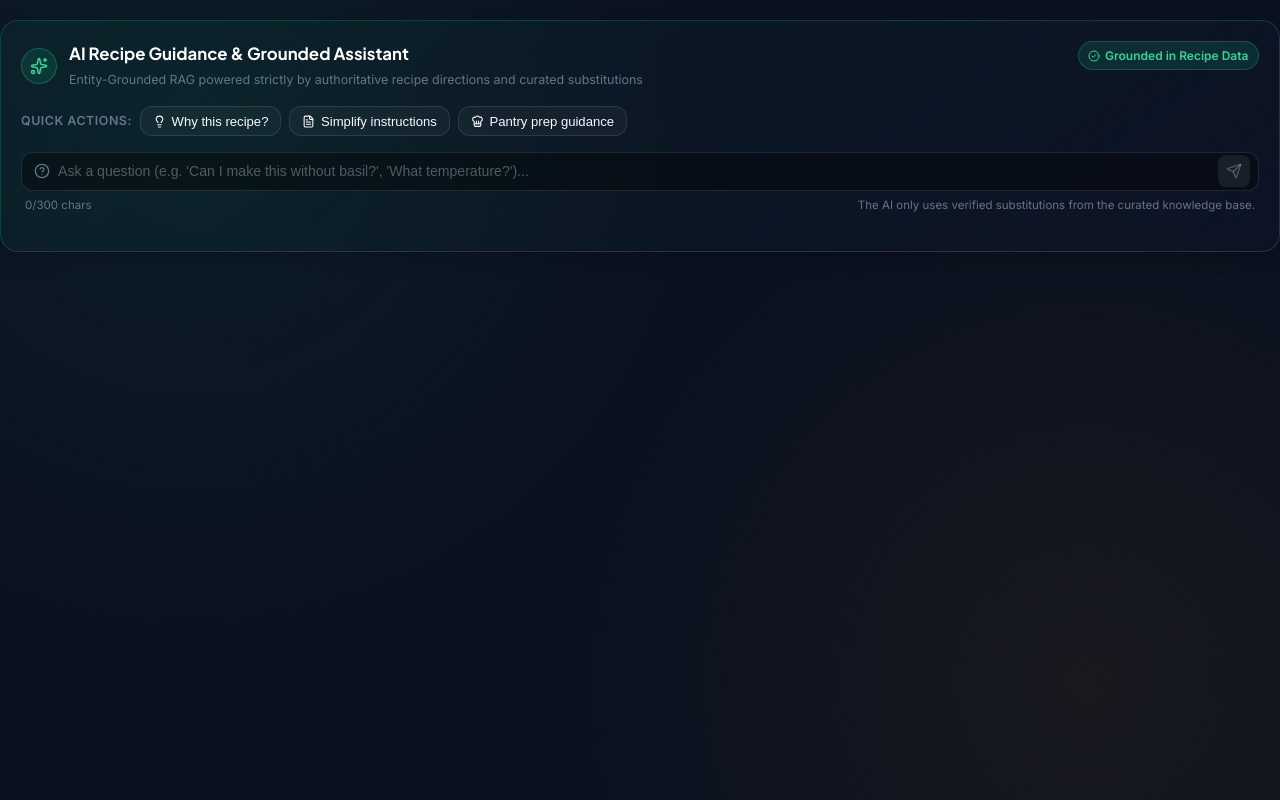
Test case: AiAssistantPanel Component › submits a cooking-step question and renders directions-grounded response with citations
Replace the text in the field with placeholder "Ask a question" with "How should I cook the sausage before adding the pasta?": [638, 171] box [58,153,1218,190]
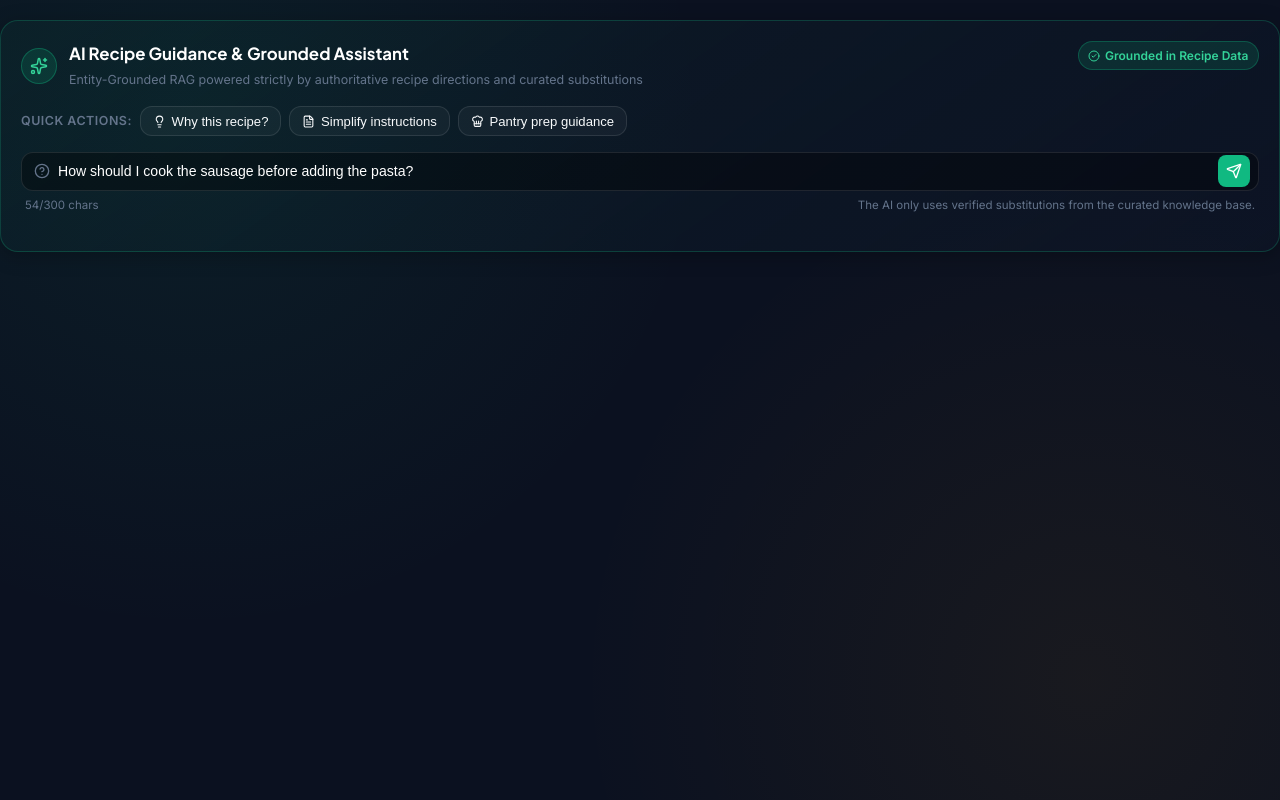
Click the button titled "Send question to AI Assistant": [1234, 171] box [1218,155,1250,187]
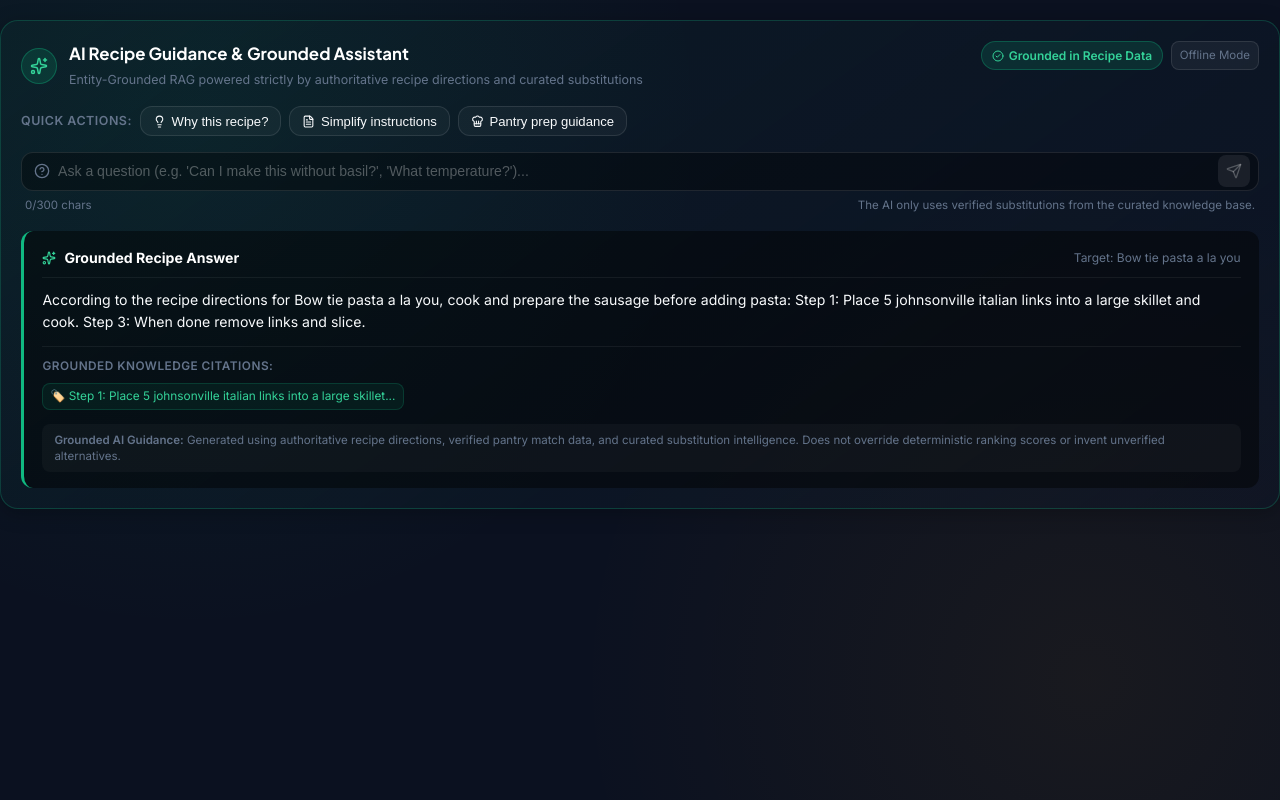
Result: the text "cook and prepare the sausage before adding pasta" is shown at [42,291,1200,330]
Result: the text titled "recipe_directions" shows "Step 1: Place 5 johnsonville" at [69,389,396,403]
